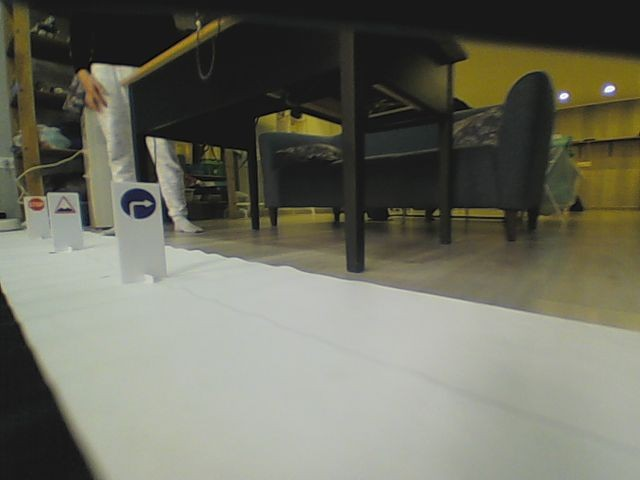Nerov: (53, 195, 76, 215)
Right: (120, 187, 157, 221)
